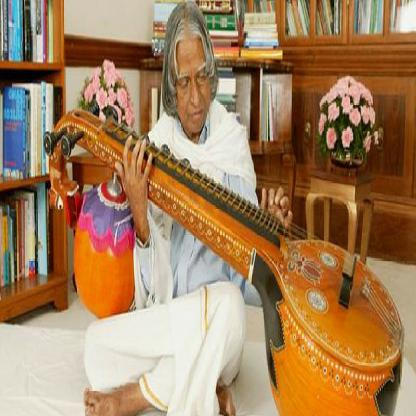Veena: (132, 136, 406, 391)
